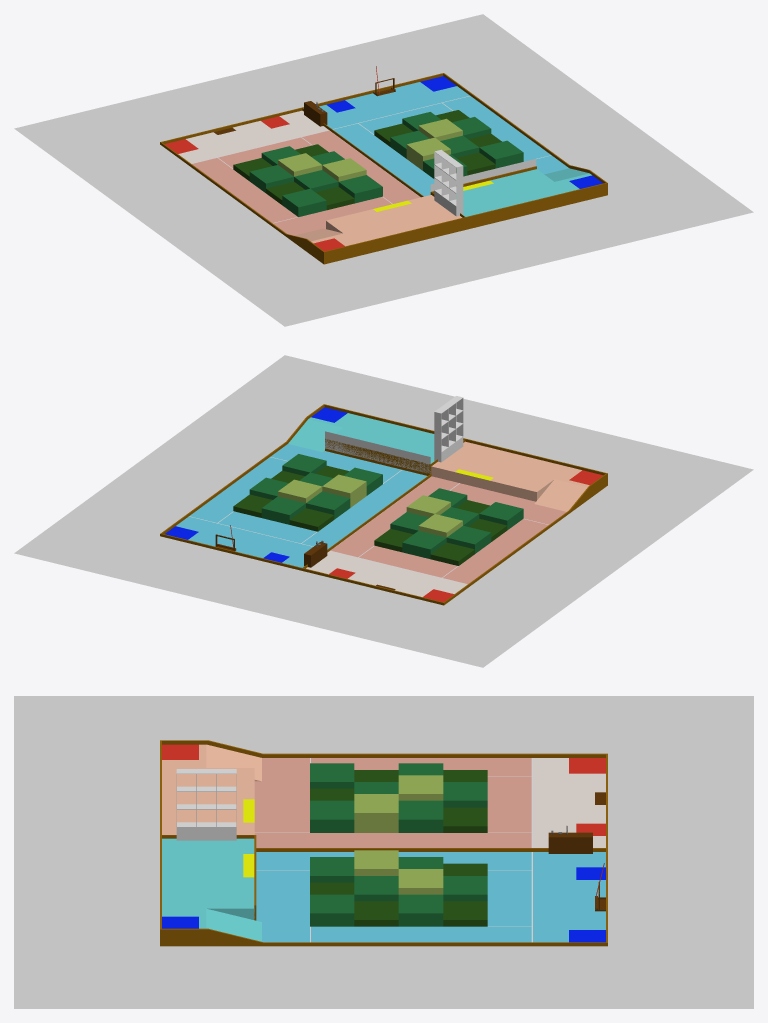
Rendered from robocon2026map_try.dae.
3 views of the same model, one above another, from view 1: azimuth 30°, elevation 25°; view 2: azimuth 150°, elevation 25°; view 3: azimuth 270°, elevation 25° (orthographic). The views are drawn at different scales.
Parts seen in each view (by area): view 1: 平面.005, 主地图, 平面.006, 区域三放置架, 主地图.002; view 2: 平面.005, 主地图, 平面.006, 主地图.002, 区域三放置架, 2-3区围栏; view 3: 平面.005, 主地图, 平面.006, 区域三放置架, 立方体.
Part boxes in pixels (bbox=[...]): 平面.005: bbox=[14, 14, 753, 326]; 主地图: bbox=[165, 76, 602, 251]; 平面.006: bbox=[160, 73, 607, 264]; 区域三放置架: bbox=[434, 149, 463, 216]; 主地图.002: bbox=[430, 159, 536, 191]; 平面.005: bbox=[14, 355, 753, 667]; 主地图: bbox=[165, 407, 602, 602]; 平面.006: bbox=[160, 404, 607, 605]; 主地图.002: bbox=[325, 431, 430, 473]; 区域三放置架: bbox=[434, 396, 463, 462]; 2-3区围栏: bbox=[325, 439, 465, 475]; 平面.005: bbox=[14, 696, 753, 1008]; 主地图: bbox=[162, 744, 605, 942]; 平面.006: bbox=[160, 740, 607, 946]; 区域三放置架: bbox=[176, 769, 236, 840]; 立方体: bbox=[548, 832, 592, 853].
Bounding box in the file's own units: 20 × 20 × 2.42.
